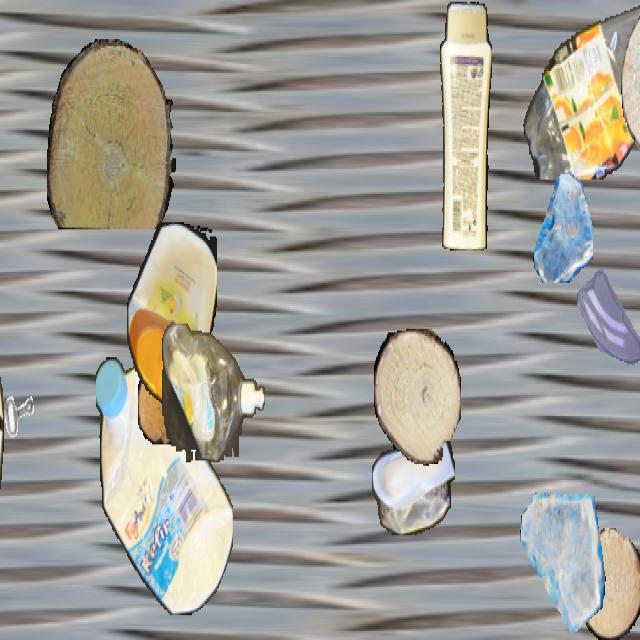glass: (519, 486, 605, 638), (577, 256, 640, 377), (532, 174, 592, 281)
metal: (0, 343, 43, 446), (639, 272, 640, 354)
plastic: (96, 356, 232, 615), (522, 2, 640, 180), (127, 222, 217, 404), (162, 324, 264, 462), (437, 2, 491, 250), (372, 427, 454, 533), (0, 304, 3, 496)
wood: (47, 39, 175, 228), (374, 329, 460, 464), (580, 528, 640, 638), (138, 362, 182, 444), (621, 2, 640, 148)
